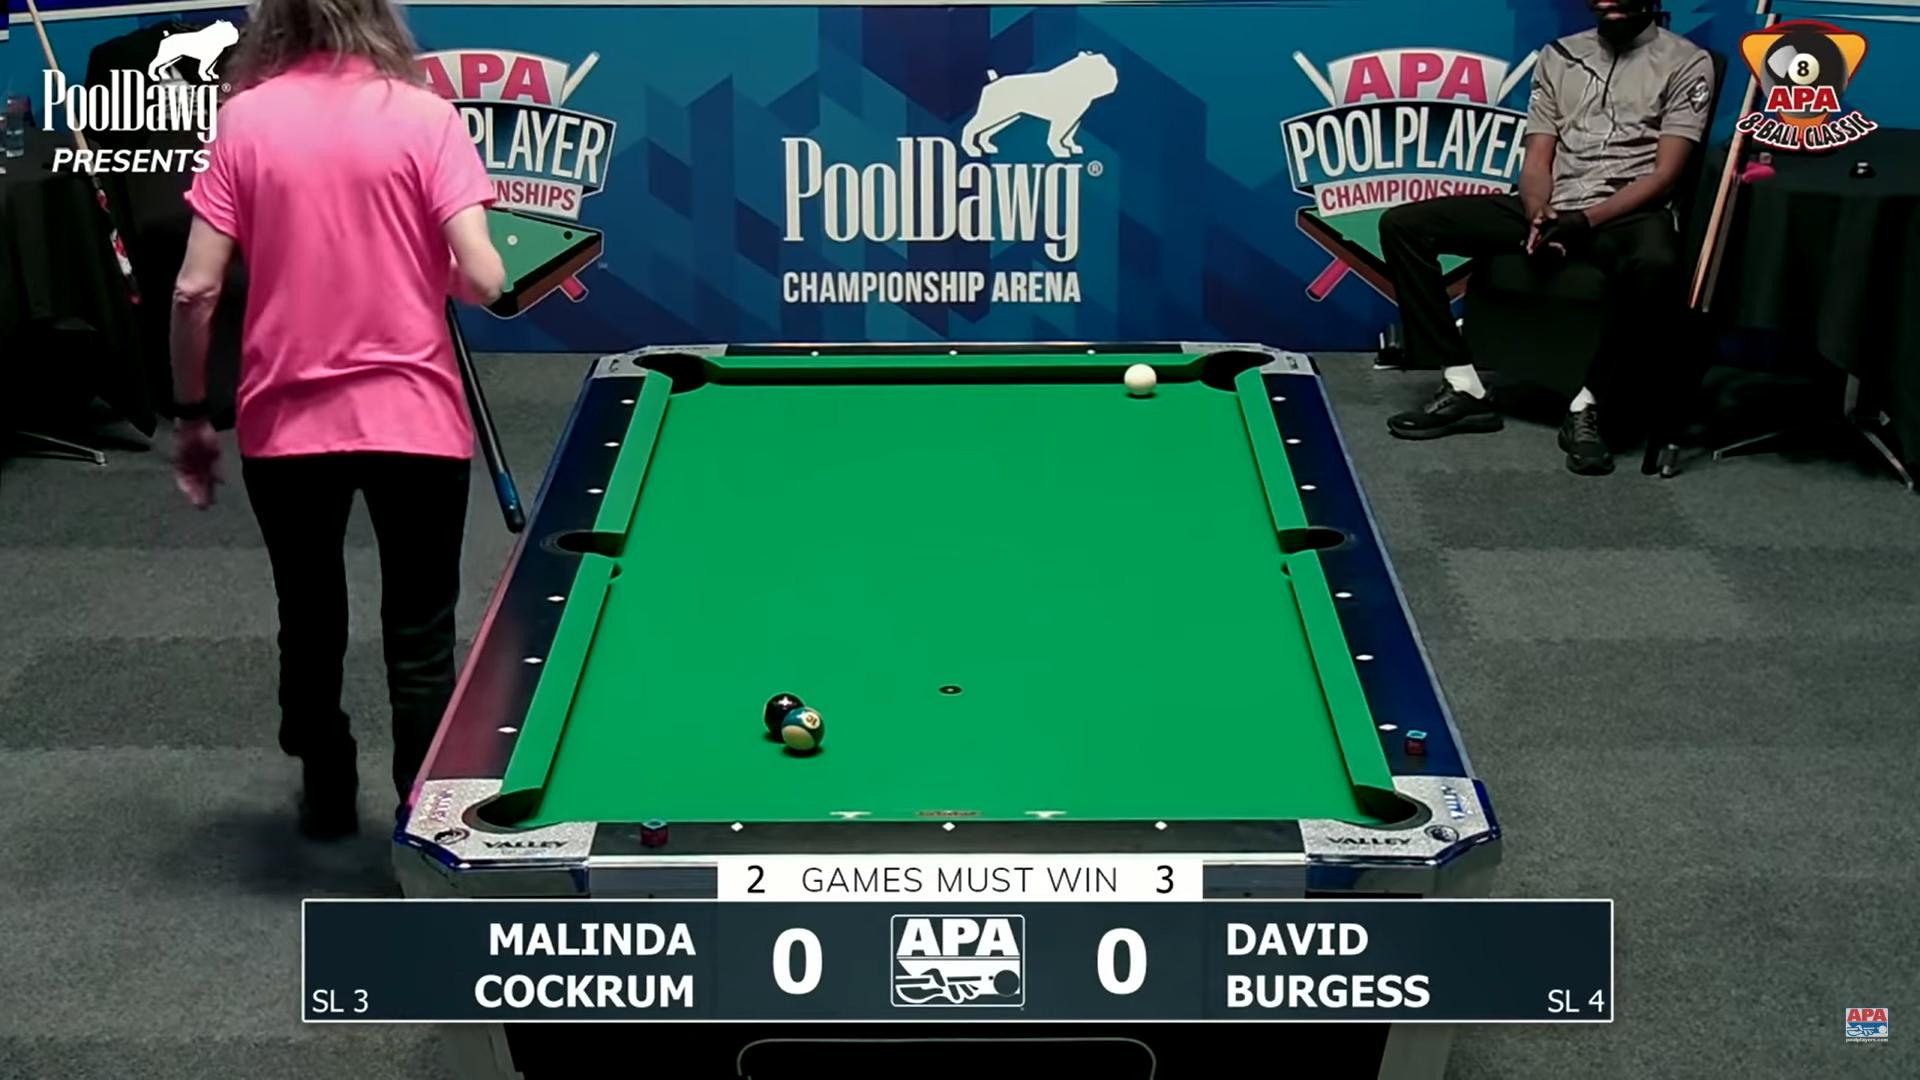Black: (764, 694, 804, 737)
Cue: (1124, 364, 1156, 396)
Dot: (497, 720, 517, 741), (617, 393, 637, 414), (1332, 585, 1352, 605), (525, 649, 545, 669), (547, 589, 567, 609), (587, 483, 607, 502), (603, 434, 622, 454), (1283, 433, 1302, 452), (1270, 390, 1290, 409), (1379, 717, 1398, 736), (1356, 650, 1374, 669), (1299, 480, 1317, 498), (728, 820, 745, 837), (939, 819, 956, 836), (1154, 816, 1171, 833), (1088, 348, 1096, 356), (949, 348, 957, 356), (811, 349, 819, 357)
Striped: (781, 705, 825, 750)
